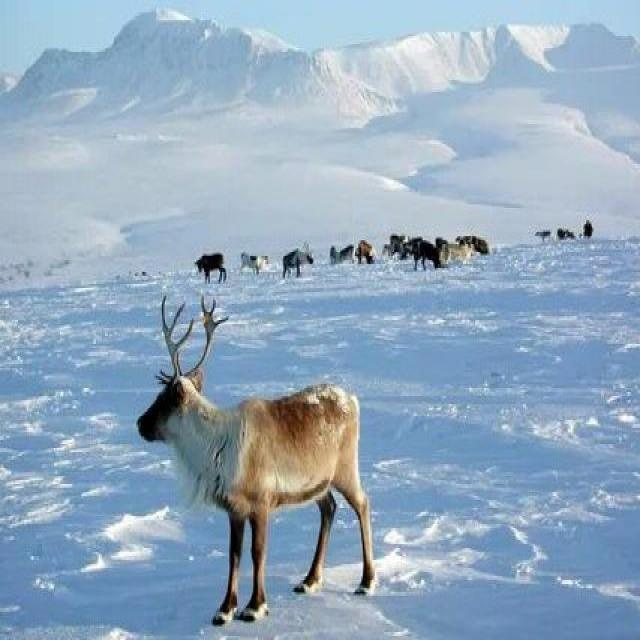deer: (96, 308, 410, 592)
